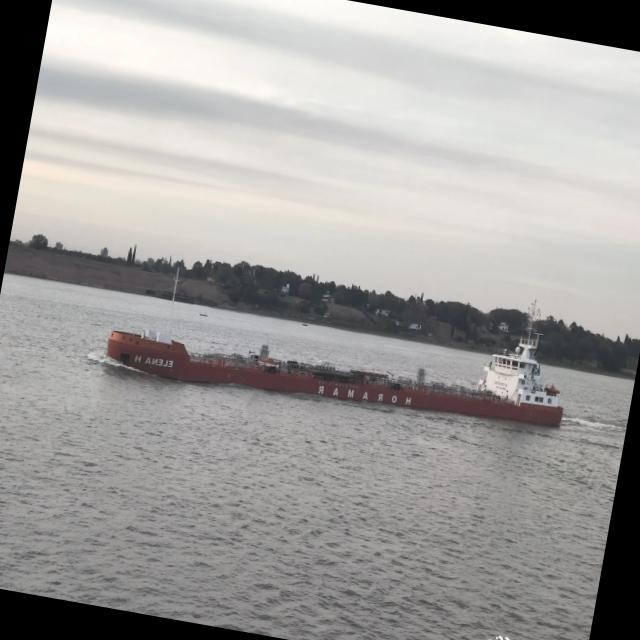Tanker: (107, 267, 563, 425)
